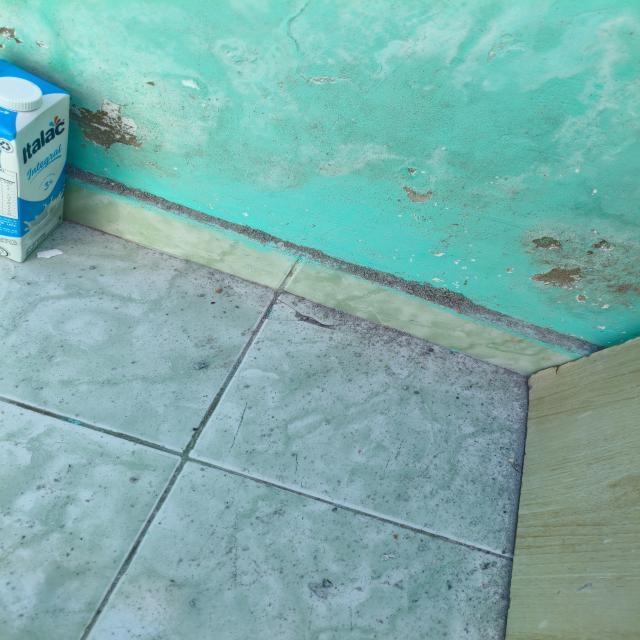Caixa de Leite: (0, 59, 72, 264)
